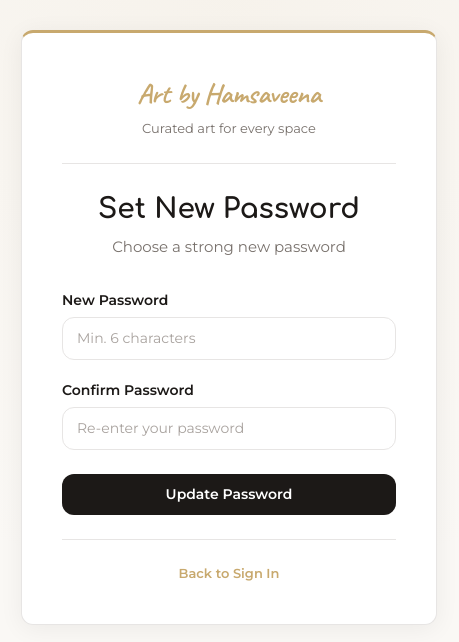
Test: ResetPasswordForm › shows success state after password update
Type "newpass123" into the password field labelled "New Password" at (229, 338), box [62,317,396,360]
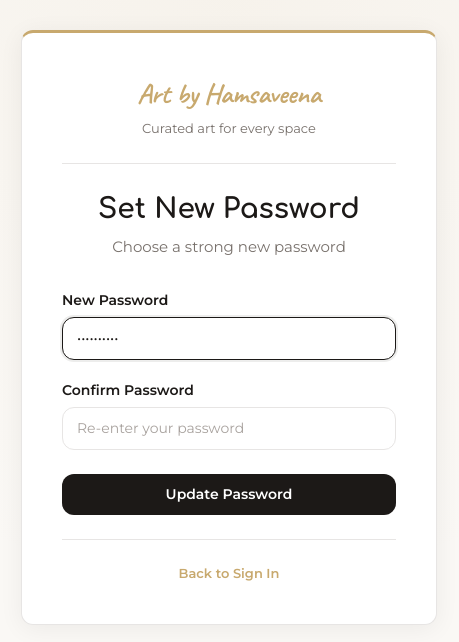
Type "newpass123" into the password field labelled "Confirm Password" at (229, 428), box [62,407,396,450]
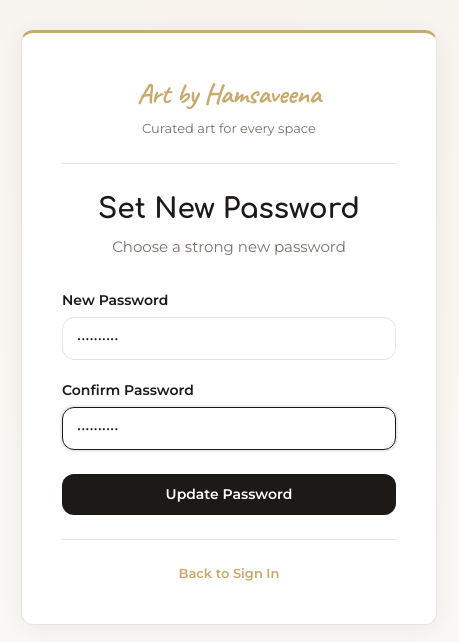
Click the button "Update Password" at (229, 494), box [62,474,396,515]
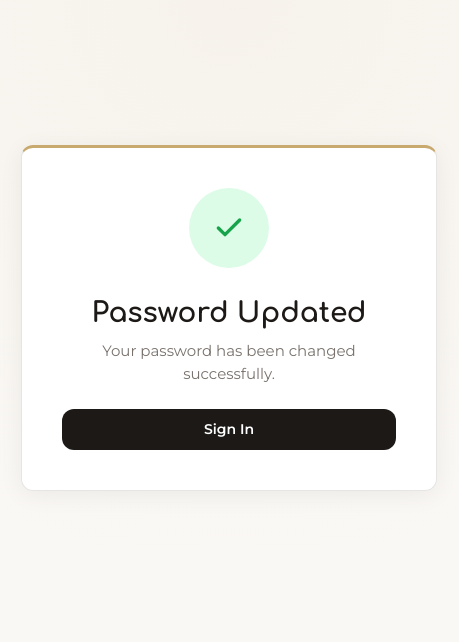
Check: the link "Sign In" is shown, box [62,409,396,450]
Check: the heading "Password Updated" is shown, box [92,297,366,329]
